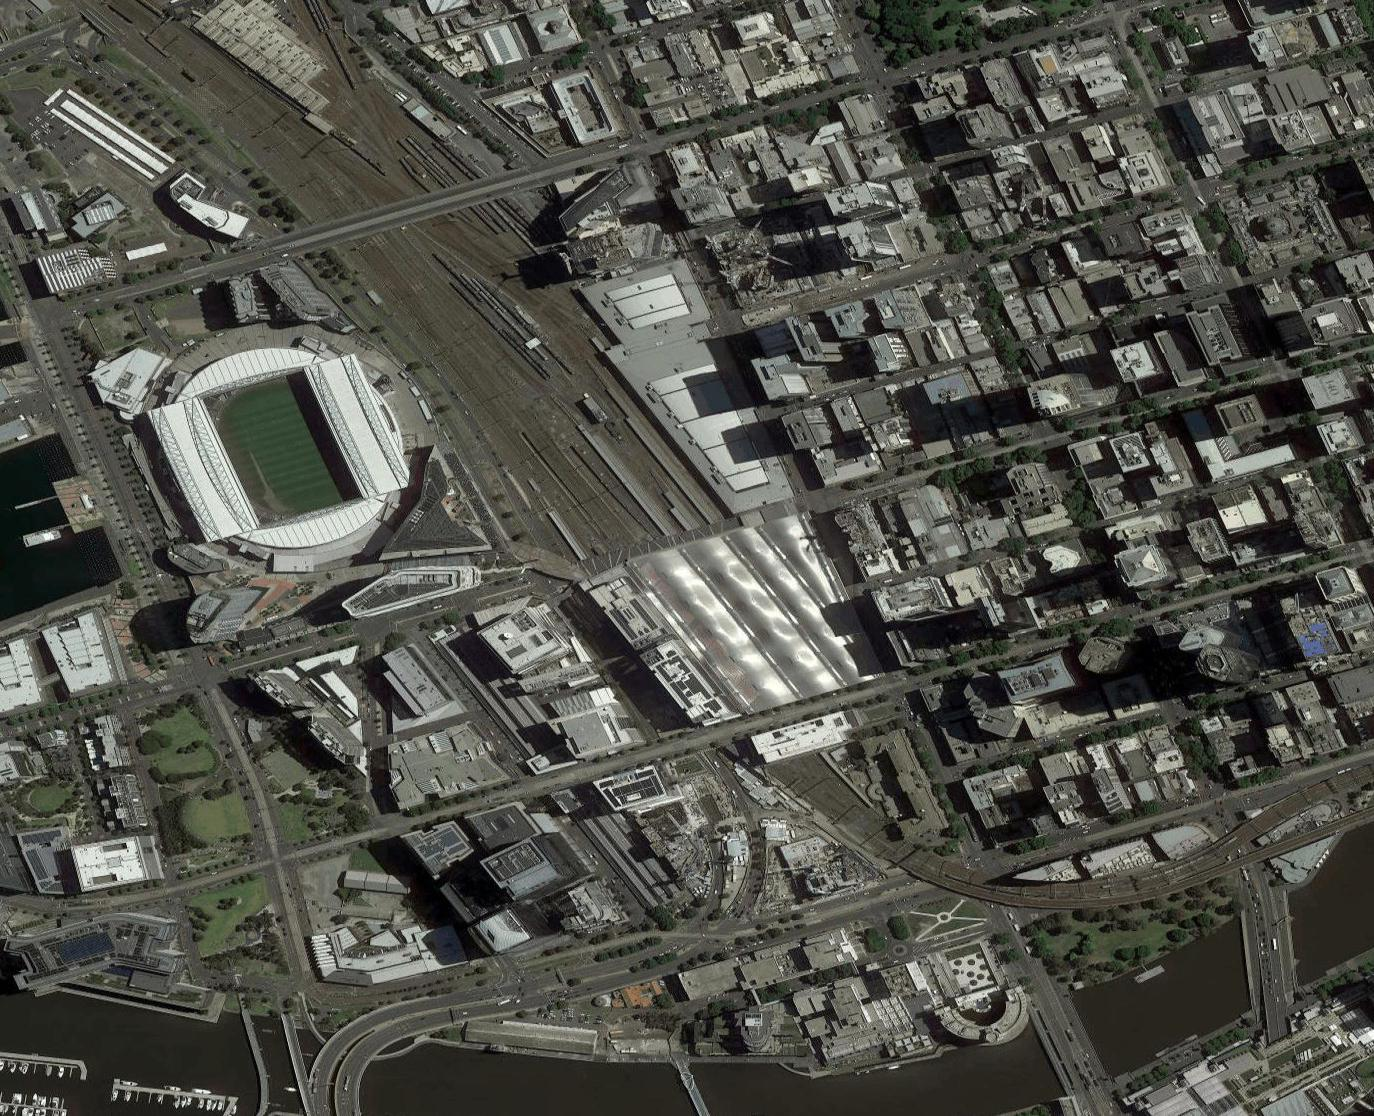bridge: (303, 172, 500, 248), (294, 1028, 387, 1116), (1233, 889, 1301, 998), (1028, 998, 1102, 1089), (668, 1058, 713, 1116)
train_station: (571, 489, 865, 781)
